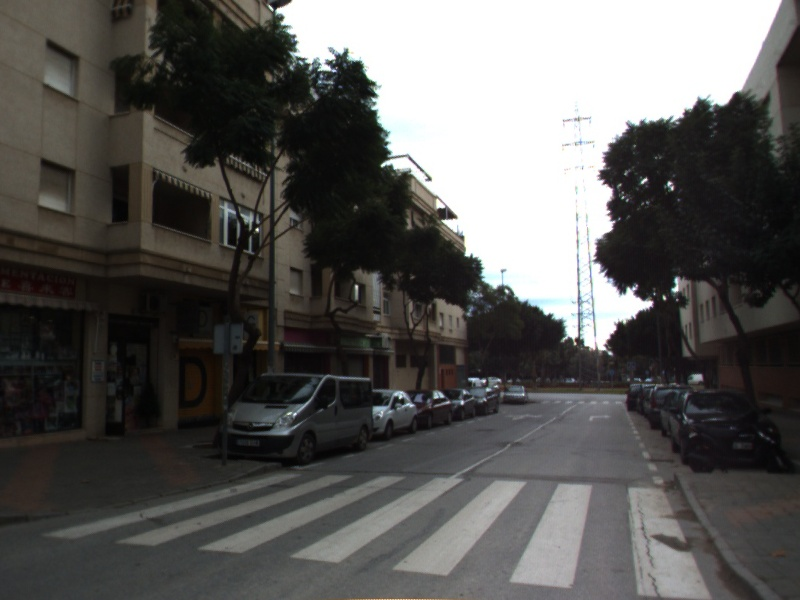RIGHT: (587, 412, 613, 423)
